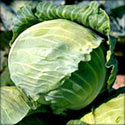cabbage: (0, 0, 118, 124)
